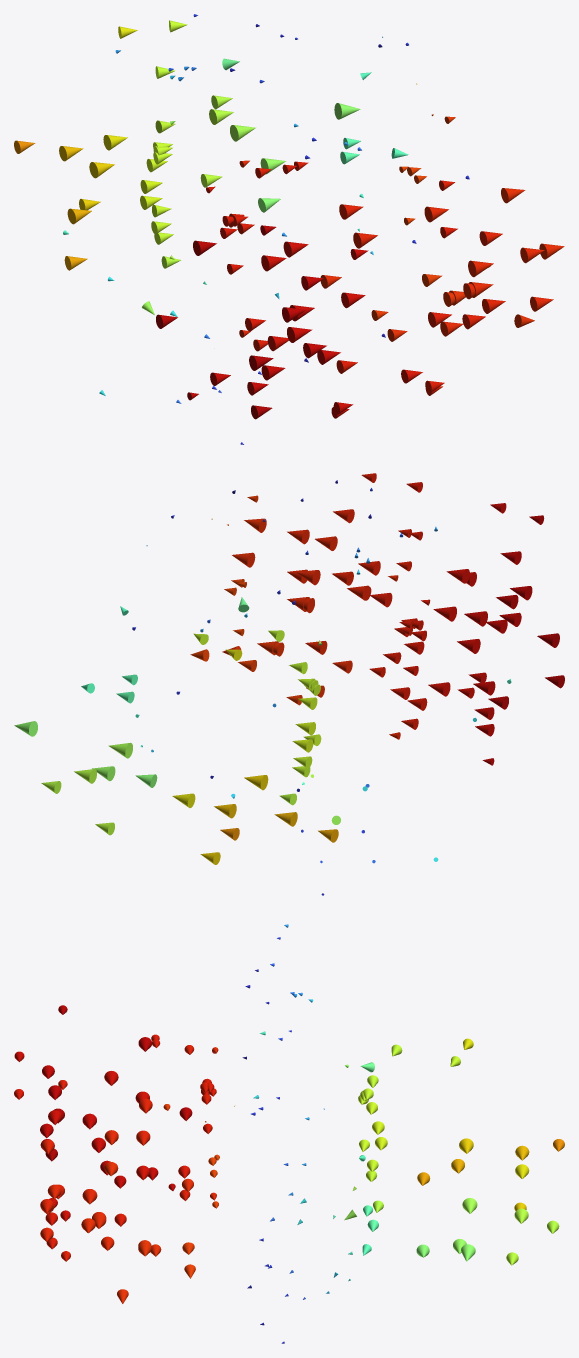
File: LineasCorrienteH2-O2_mh2-6.88_V-1.glb
3 renders of one model, top to bottom at view 1: azimuth 30°, elevation 25°; view 2: azimuth 150°, elevation 25°; view 3: azimuth 270°, elevation 25°, orthographic. The views are drawn at different scales.
Size of the model in its own units: 0.000928 by 0.000951 by 0.00123.
2 materials, 2 textured.
